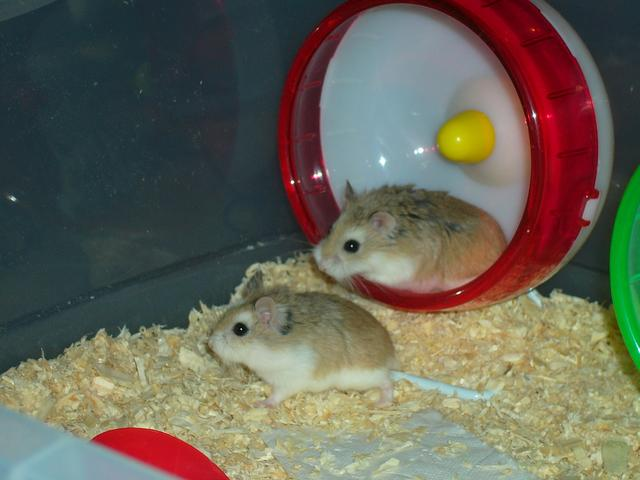mouse: (181, 270, 430, 416), (296, 172, 490, 297)
